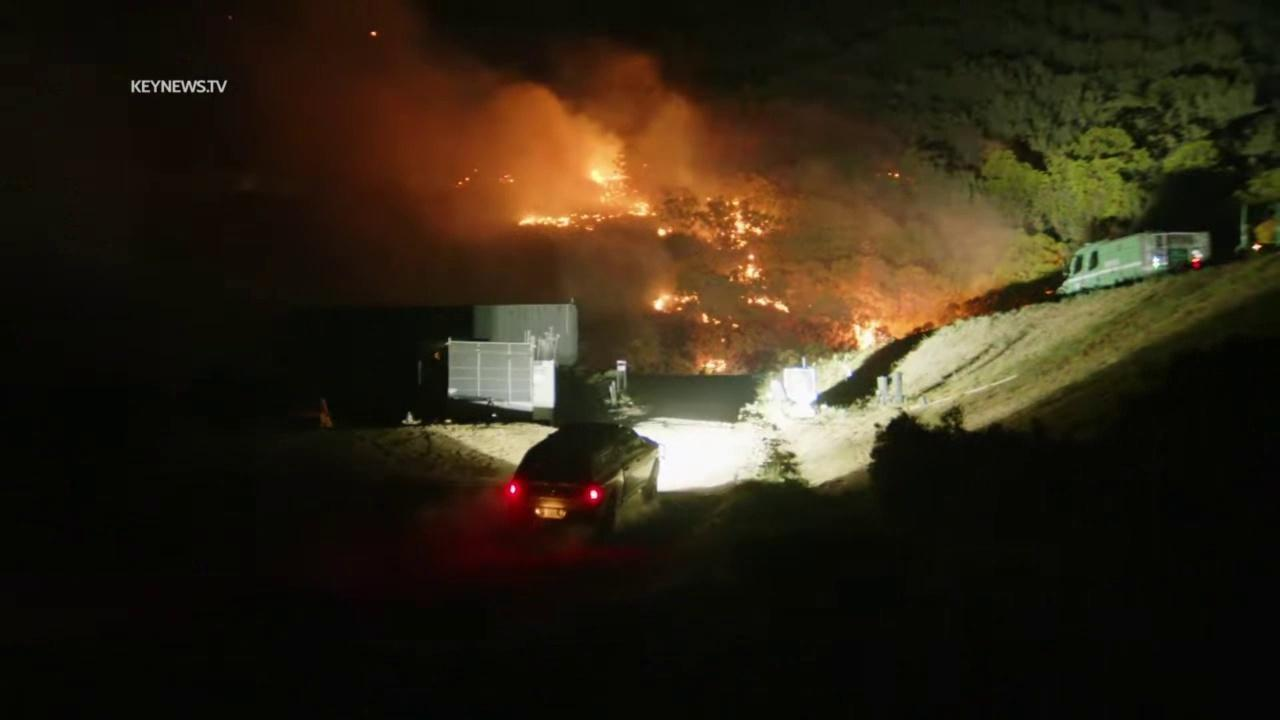fire: (589, 170, 657, 217), (726, 197, 766, 250), (728, 253, 769, 286), (646, 289, 700, 314), (849, 319, 885, 352), (514, 212, 579, 229), (743, 294, 792, 315), (697, 358, 728, 376), (656, 226, 673, 238), (699, 311, 710, 327), (886, 170, 902, 178), (711, 316, 722, 327), (592, 213, 605, 222), (584, 226, 595, 232), (731, 323, 740, 330), (581, 213, 590, 220), (369, 30, 378, 37), (721, 337, 727, 344), (456, 181, 462, 186), (464, 177, 471, 181)
smoke: (179, 0, 1028, 333)
